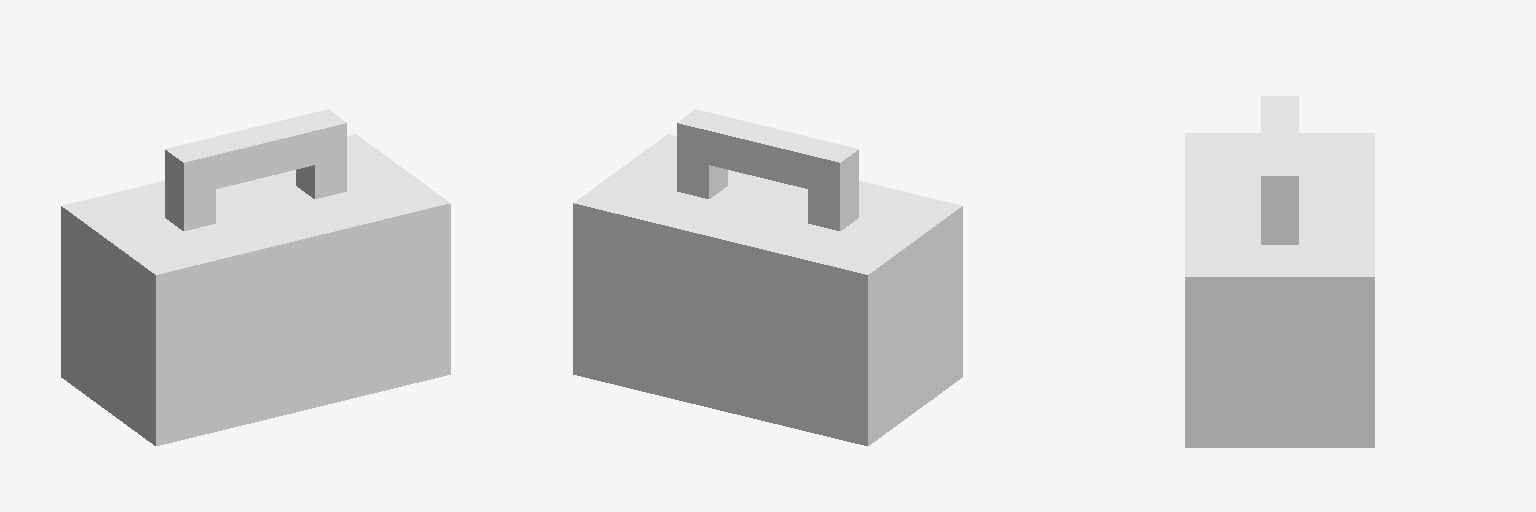
File: item_aid_kit.obj
The picture shows the model from 3 angles: view 1: azimuth 30°, elevation 25°; view 2: azimuth 150°, elevation 25°; view 3: azimuth 270°, elevation 25°; orthographic projection.
Size of the model in its own units: 9 by 7 by 5.